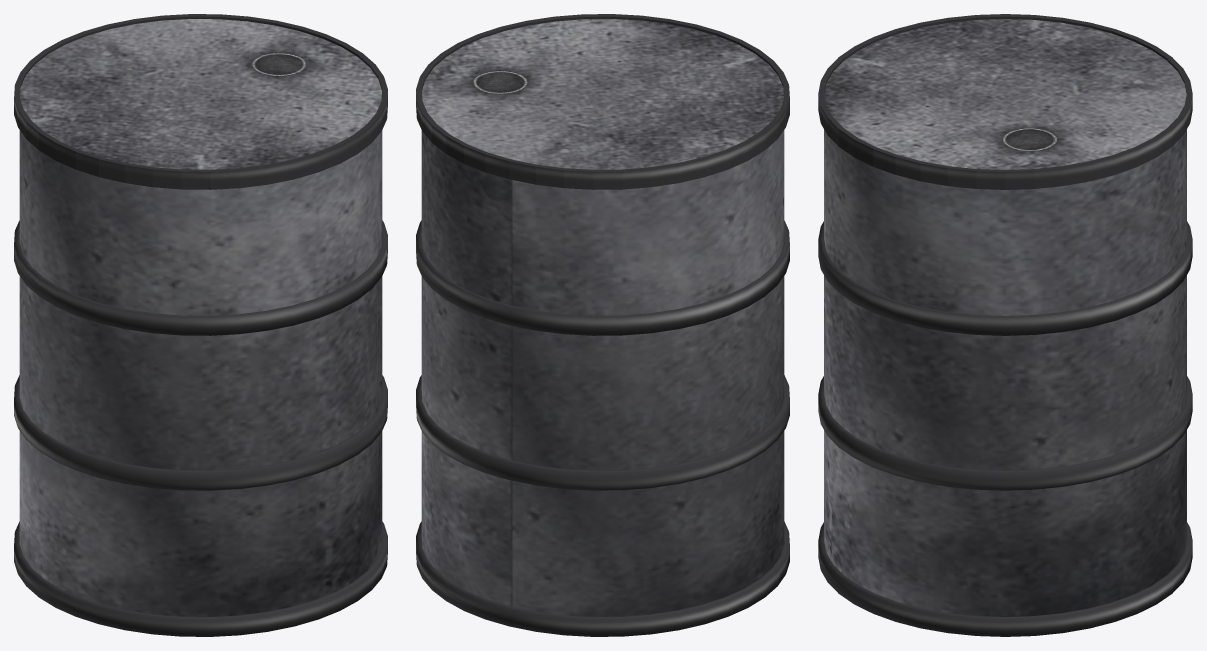
Rendered from Barrel2.fbx.
The picture shows the model from 3 angles, left to right: view 1: azimuth 30°, elevation 25°; view 2: azimuth 150°, elevation 25°; view 3: azimuth 270°, elevation 25°; orthographic projection.
Parts seen in each view (by area): view 1: body, top, cinta; view 2: body, top, cinta; view 3: body, top, cinta.
Part boxes in pixels (bbox=[...]): body: bbox=[19, 130, 382, 616]; top: bbox=[14, 14, 387, 189]; cinta: bbox=[14, 220, 387, 636]; body: bbox=[421, 130, 784, 616]; top: bbox=[416, 14, 789, 189]; cinta: bbox=[416, 220, 789, 636]; body: bbox=[824, 129, 1186, 616]; top: bbox=[818, 14, 1192, 189]; cinta: bbox=[818, 221, 1192, 636].
Size of the model in its own units: 72.71 by 99.77 by 72.71.
